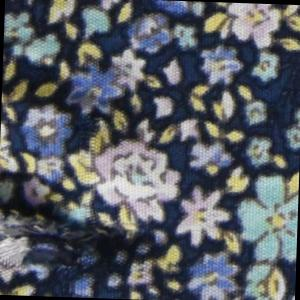Damage: (1, 166, 187, 300)
